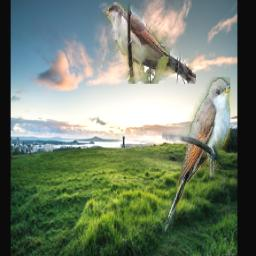Cuckoo: (163, 78, 231, 236), (100, 2, 197, 84)
